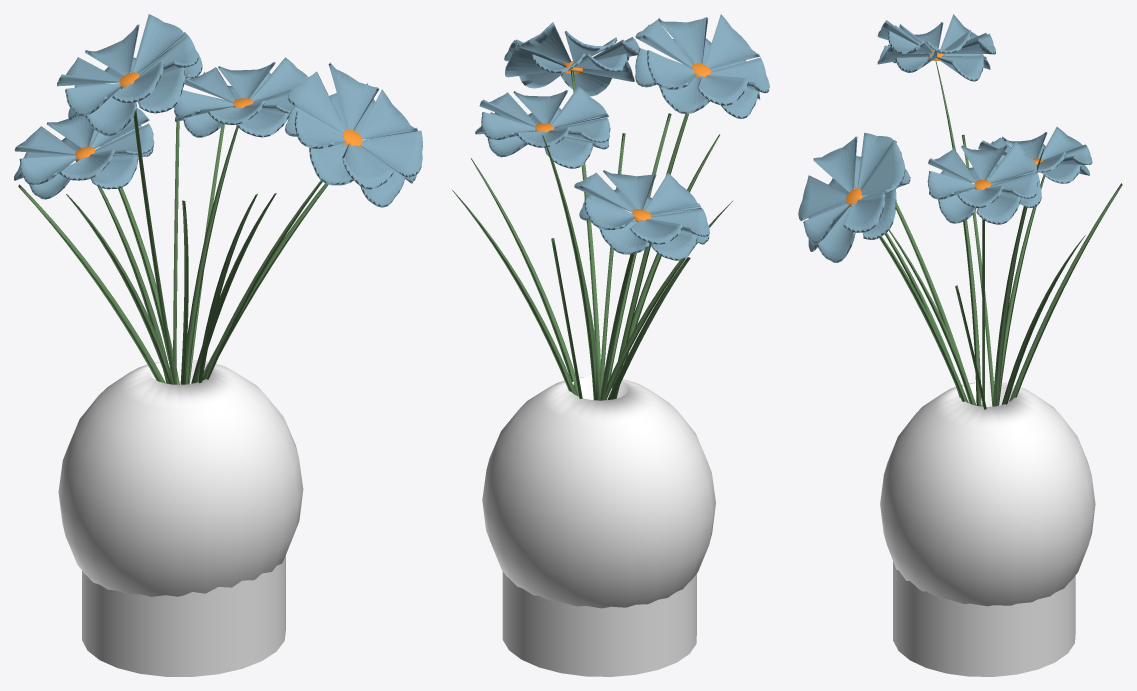
3 views of the same model, side by side, from view 1: azimuth 30°, elevation 25°; view 2: azimuth 150°, elevation 25°; view 3: azimuth 270°, elevation 25° (orthographic). The views are drawn at different scales.
Visible parts, largest first — view 1: Mesh2_Group3_Group2_Group1_Model; view 2: Mesh2_Group3_Group2_Group1_Model; view 3: Mesh2_Group3_Group2_Group1_Model.
Boxes of the visible parts, box(x1,y1,x2,y2) form: Mesh2_Group3_Group2_Group1_Model: box(14, 14, 422, 676); Mesh2_Group3_Group2_Group1_Model: box(452, 14, 769, 676); Mesh2_Group3_Group2_Group1_Model: box(798, 14, 1122, 676).
Size of the model in its own units: 0.5 by 1 by 0.5.
